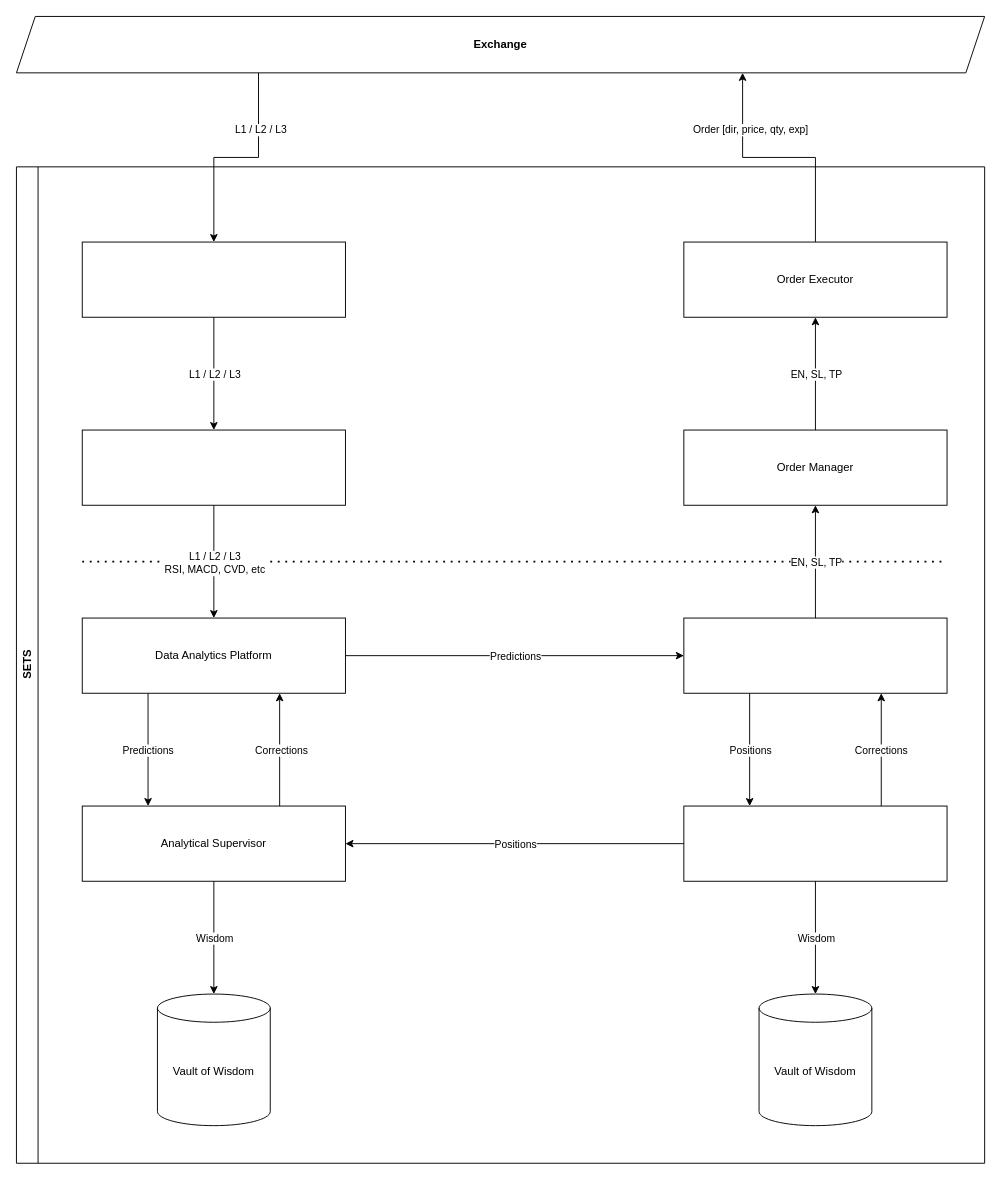
This 1001x1180 diagram has some shape labels left out. Here are the shapes that lost their labels. From the top down, the centre of each, then its label:
At [213,279]: "Market Data Collector".
At [213,467]: "Market Data Enhancer".
At [815,655]: "Position Management Platform".
At [815,843]: "Strategical Supervisor".
